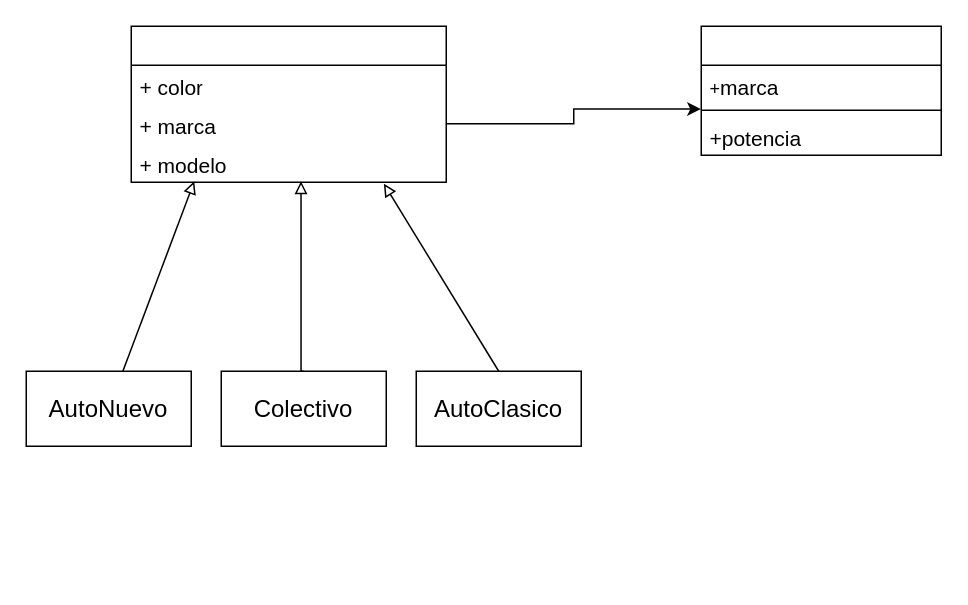
Image size: 968x605. Some labels were removed from this diagram. The box of each missing label's shape, as (x1, y1, x2, y2) in pixels:
Radio: (700, 25, 941, 155)
Vehículo: (130, 25, 446, 182)
